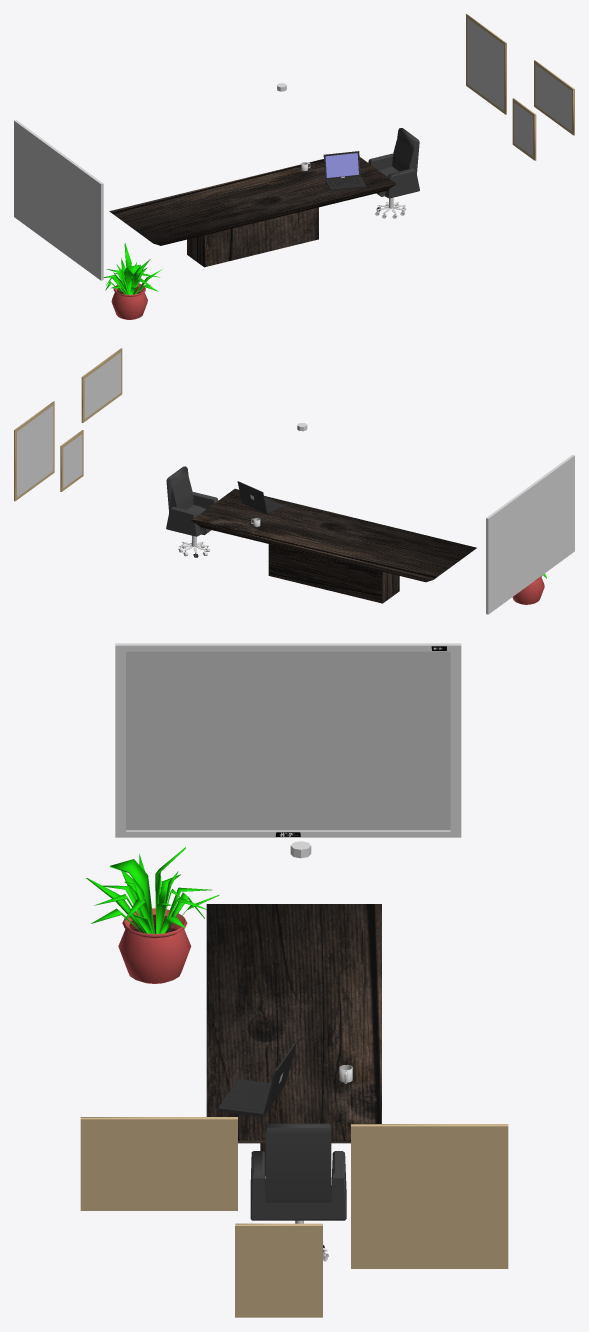
Rendered from ConferenceRoom.fbx.
The picture shows the model from 3 angles, top to bottom: view 1: azimuth 30°, elevation 25°; view 2: azimuth 150°, elevation 25°; view 3: azimuth 270°, elevation 25°; orthographic projection. The views are drawn at different scales.
Visible parts, largest first — view 1: Table, Datashow, Pictures.001, Chair, Pictures.003, Laptop, Pictures.002, PlantLeaves, Pot; view 2: Table, Datashow, Pictures.001, Chair, Pictures.003, Pictures.002, Laptop, Pot; view 3: Datashow, Table, Pictures.001, Pictures.003, Chair, Pictures.002, PlantLeaves, Pot, Laptop.
Part boxes in pixels (<box>): Table: <box>109,157,396,267</box>; Datashow: <box>14,120,103,280</box>; Pictures.001: <box>466,14,506,114</box>; Chair: <box>368,128,419,214</box>; Pictures.003: <box>534,60,574,135</box>; Laptop: <box>323,151,366,191</box>; Pictures.002: <box>512,98,536,160</box>; PlantLeaves: <box>103,243,162,294</box>; Pot: <box>111,283,147,319</box>; Table: <box>191,488,476,603</box>; Datashow: <box>486,455,574,614</box>; Pictures.001: <box>14,401,54,501</box>; Chair: <box>166,466,218,552</box>; Pictures.003: <box>81,348,122,422</box>; Pictures.002: <box>60,430,83,491</box>; Laptop: <box>237,481,284,514</box>; Pot: <box>512,575,544,604</box>; Datashow: <box>115,643,461,837</box>; Table: <box>206,904,381,1175</box>; Pictures.001: <box>351,1124,508,1268</box>; Pictures.003: <box>80,1117,237,1210</box>; Chair: <box>250,1123,346,1251</box>; Pictures.002: <box>235,1223,322,1317</box>; PlantLeaves: <box>86,847,219,933</box>; Pot: <box>118,908,191,983</box>; Laptop: <box>217,1041,296,1117</box>.
Bounding box in the file's own units: 1214 × 393 × 486.
